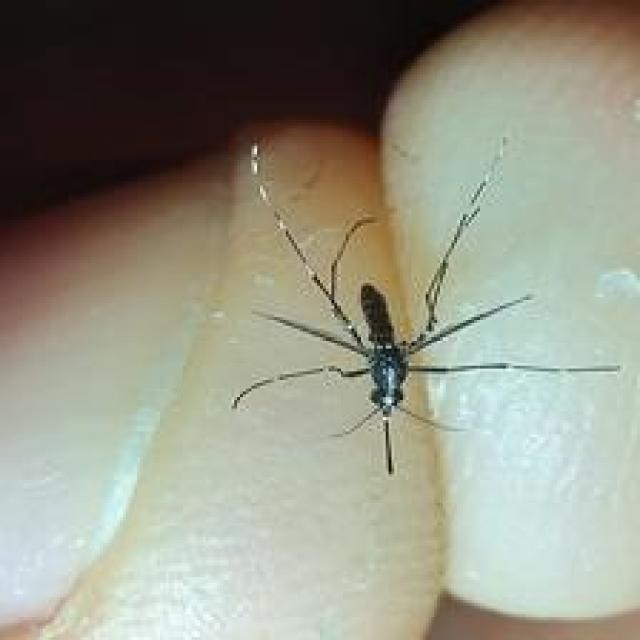Aedes albopictus: (229, 133, 620, 476)
